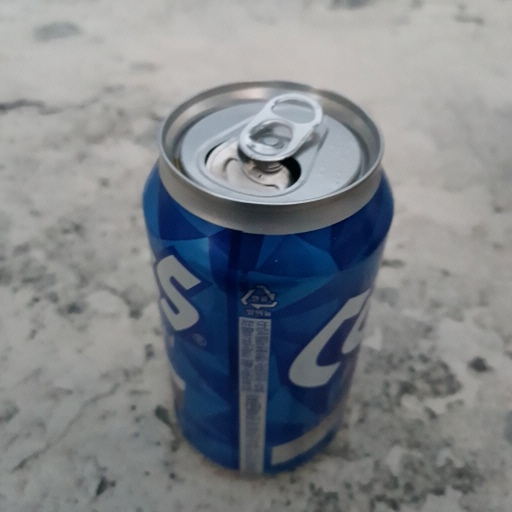Metal_0: (144, 84, 397, 472)
